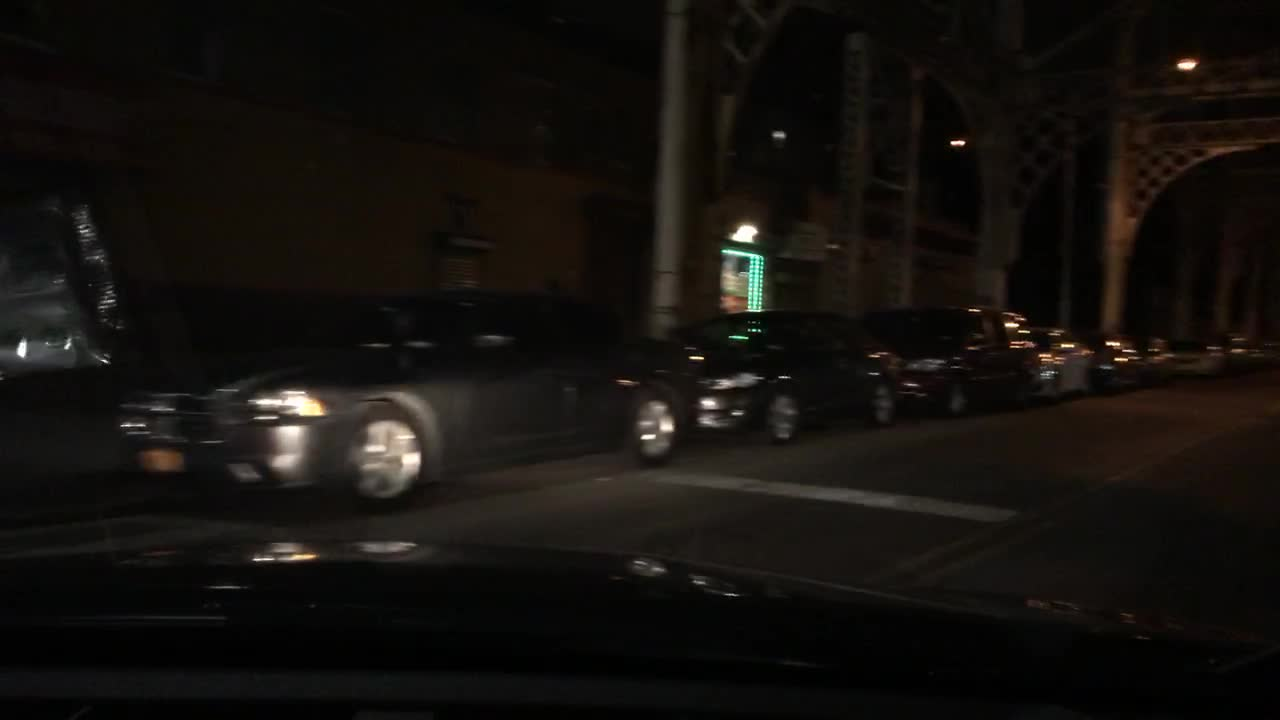car: (118, 286, 696, 506), (679, 308, 893, 444), (875, 302, 1039, 419), (1029, 326, 1102, 400), (1092, 337, 1160, 392), (1155, 329, 1229, 377), (1225, 331, 1263, 363)
